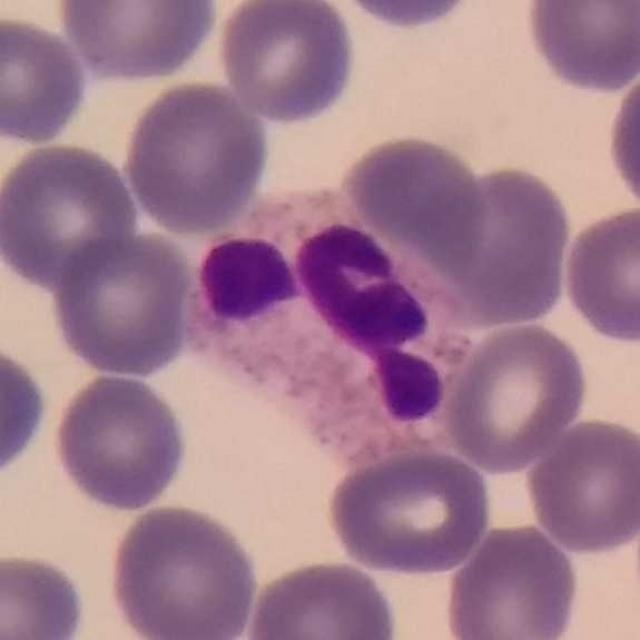Neutrophil: (180, 178, 473, 468)
RBC: (424, 162, 577, 328), (121, 76, 273, 236), (442, 317, 591, 474), (323, 445, 496, 579), (48, 228, 197, 380), (104, 500, 262, 640), (0, 138, 141, 292), (49, 370, 191, 514), (337, 131, 491, 256), (212, 0, 360, 127), (440, 518, 583, 640), (522, 414, 640, 555), (54, 0, 222, 85), (244, 555, 402, 640), (0, 10, 90, 148), (558, 202, 640, 347), (521, 0, 640, 96), (0, 547, 90, 640), (0, 339, 52, 485), (603, 56, 640, 216), (328, 0, 481, 33)
